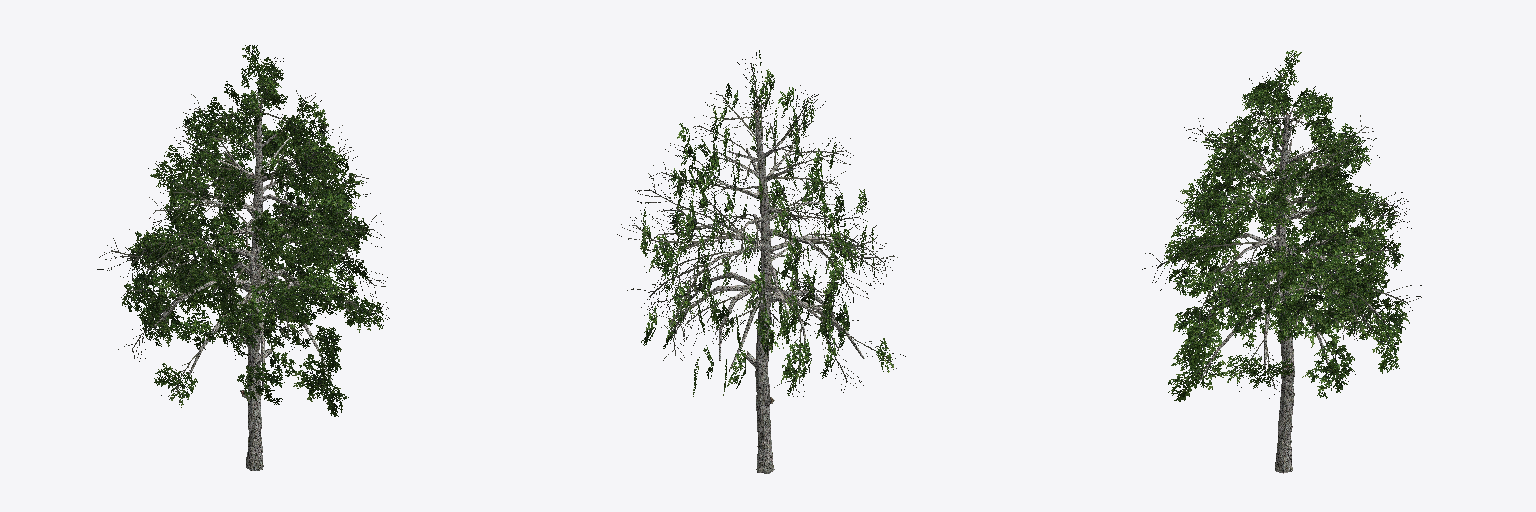
3 renders of one model, left to right at view 1: azimuth 30°, elevation 25°; view 2: azimuth 150°, elevation 25°; view 3: azimuth 270°, elevation 25°, orthographic.
Visible parts, largest first — view 1: blackgum; view 2: blackgum; view 3: blackgum.
Part boxes in pixels (x1,y1,x2,y2): blackgum: (97,45,389,470); blackgum: (617,50,905,473); blackgum: (1142,50,1421,473).
Size of the model in its own units: 16.9 by 26.57 by 16.75.
Materials: 5 (5 with a texture image).